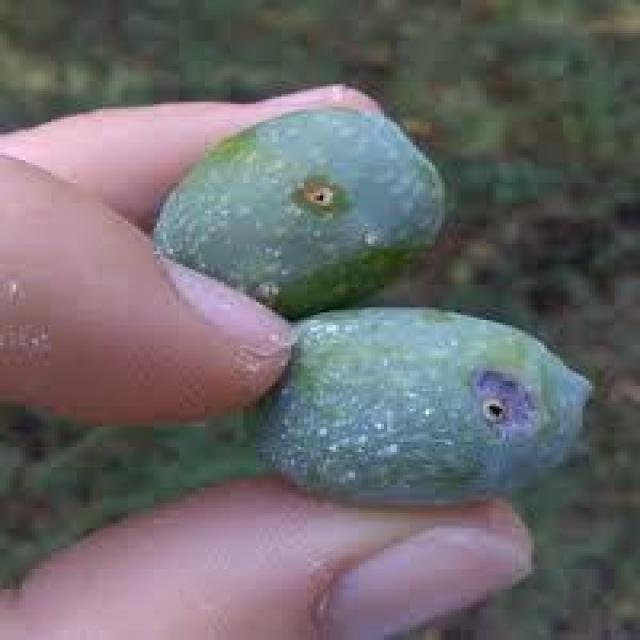Olive Fruit Fly: (259, 307, 589, 503), (154, 109, 442, 315)
